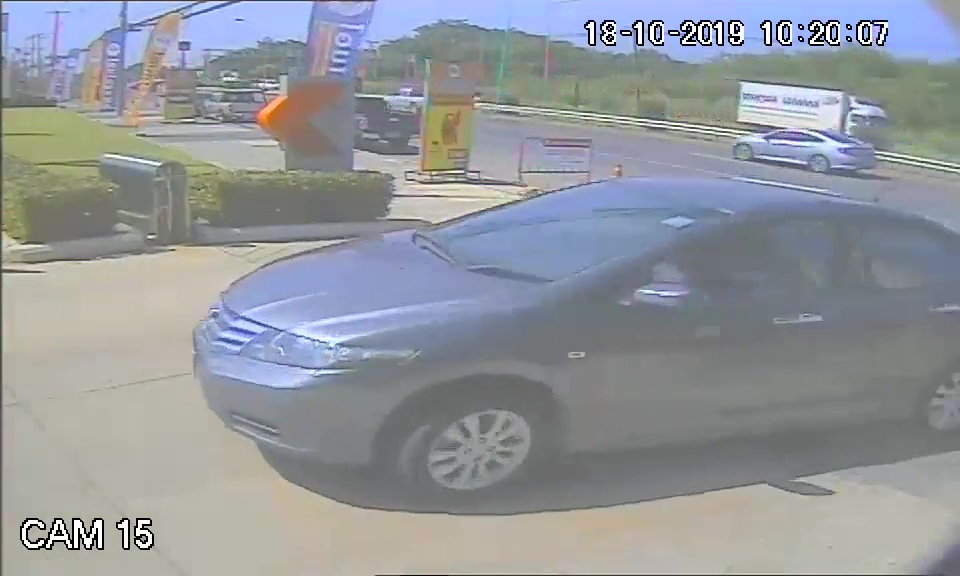sedan: (188, 175, 960, 495)
